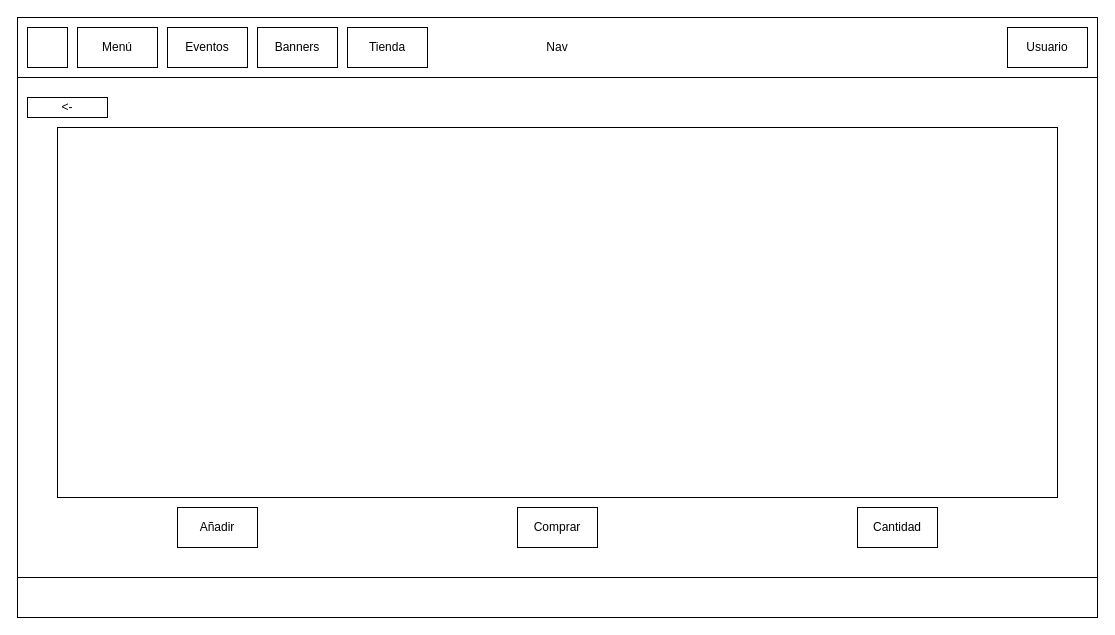
The diagram is 1115 pixels wide and 635 high, and some of its shapes have lost their labels. The box of each missing label's shape, as (x1, y1, x2, y2) in pixels:
Footer: (16, 576, 1098, 618)
Lista de Items: (56, 126, 1058, 498)
Logo: (26, 26, 68, 68)
